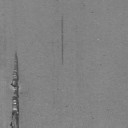slag inclusion: (9, 50, 20, 128), (61, 14, 64, 64)
